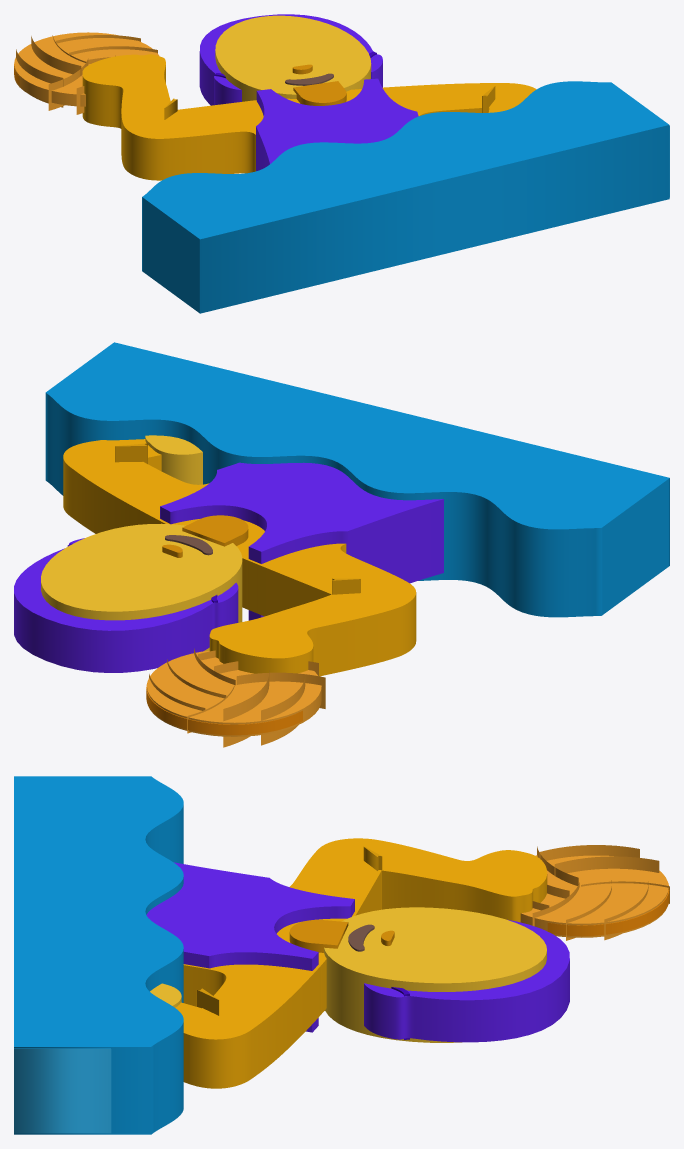
File: emoji_u1f93d_200d_2640.glb
The picture shows the model from 3 angles, top to bottom: view 1: azimuth 30°, elevation 25°; view 2: azimuth 150°, elevation 25°; view 3: azimuth 270°, elevation 25°; orthographic projection. The views are drawn at different scales.
Parts seen in each view (by area): view 1: emoji_u1f93d_200d_2640; view 2: emoji_u1f93d_200d_2640; view 3: emoji_u1f93d_200d_2640.
Part boxes in pixels (x1,y1,x2,y2): emoji_u1f93d_200d_2640: [14, 14, 669, 313]; emoji_u1f93d_200d_2640: [14, 342, 669, 747]; emoji_u1f93d_200d_2640: [14, 776, 669, 1134].
Size of the model in its own units: 0.0331 by 0.005 by 0.0338.
